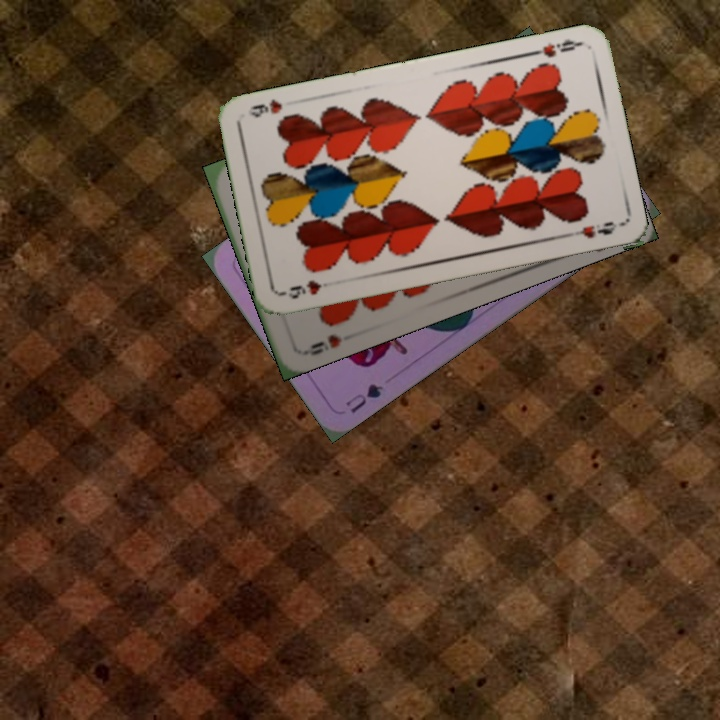GU: (341, 379, 386, 416)
H9: (278, 276, 337, 302), (525, 35, 584, 60), (299, 330, 345, 359)
